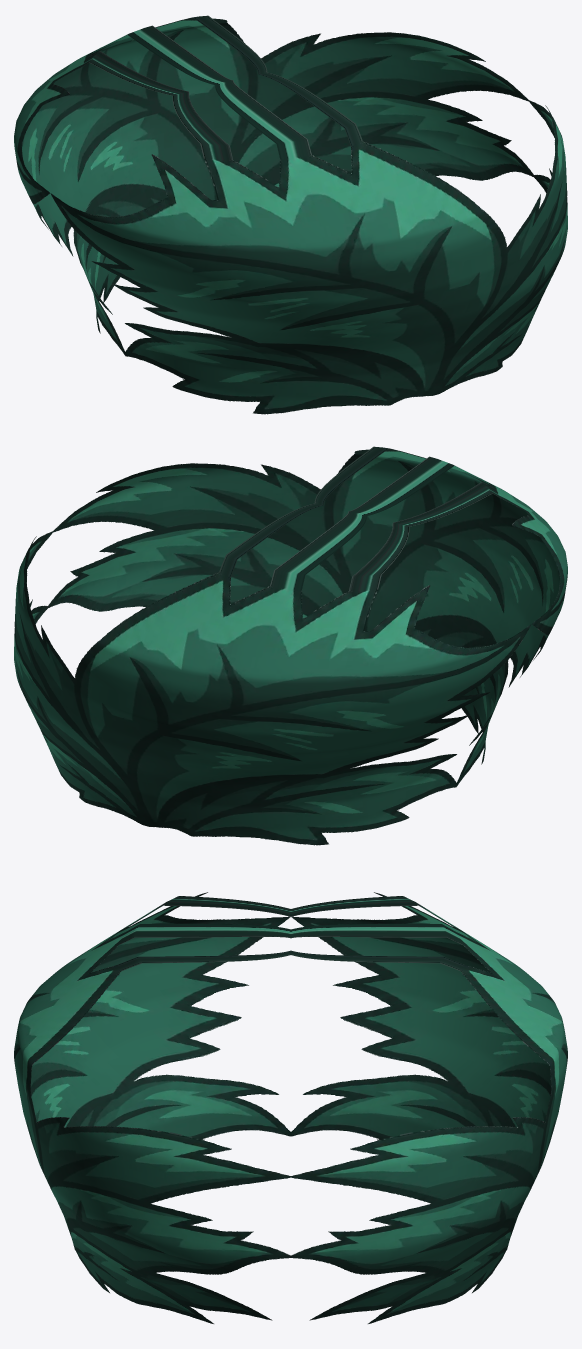
The model's file is broadleaf_clump.glb.
3 renders of one model, top to bottom at view 1: azimuth 30°, elevation 25°; view 2: azimuth 150°, elevation 25°; view 3: azimuth 270°, elevation 25°, orthographic.
Visible parts, largest first — view 1: broadleaf_clump; view 2: broadleaf_clump; view 3: broadleaf_clump.
Boxes of the visible parts, box(x1,y1,x2,y2) form: broadleaf_clump: box(14, 15, 567, 414); broadleaf_clump: box(14, 446, 567, 845); broadleaf_clump: box(14, 892, 567, 1323).
Bounding box in the file's own units: 1 × 0.5228 × 0.9836.
Materials: 1 (1 with a texture image).
